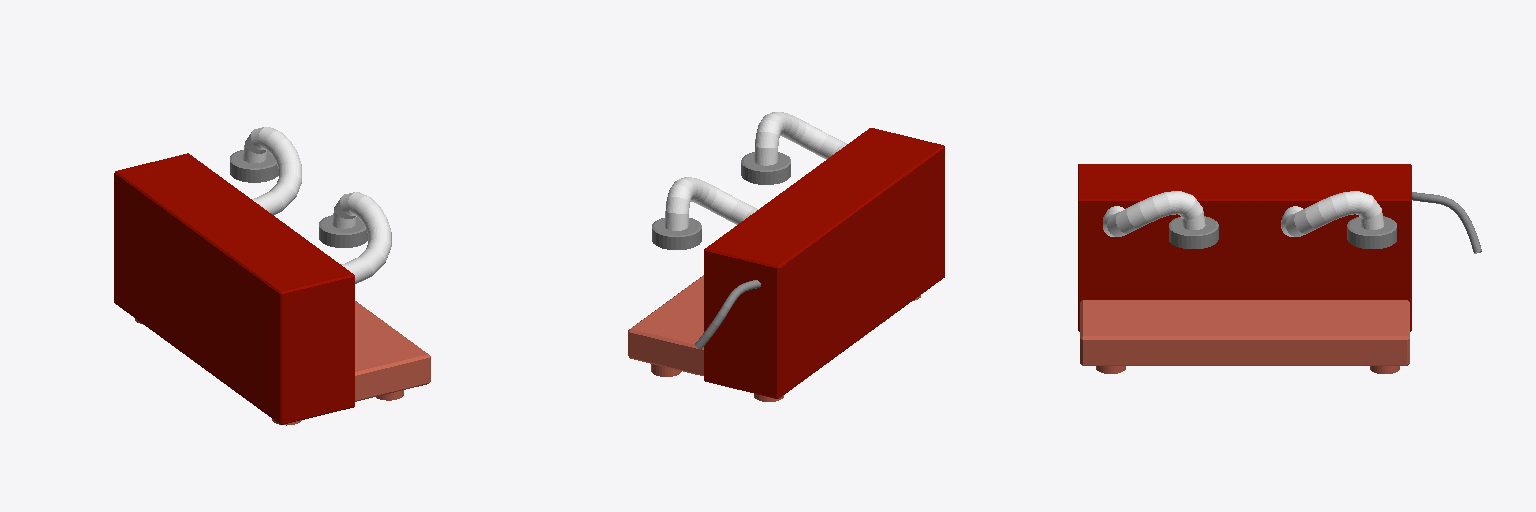
The model's file is aliencoffeemachine.obj.
3 renders of one model, left to right at view 1: azimuth 30°, elevation 25°; view 2: azimuth 150°, elevation 25°; view 3: azimuth 270°, elevation 25°, orthographic.
Parts seen in each view (by area): view 1: Cube_Cube.001, Cube.001_Cube.002, BezierCurve.001_Mesh, BezierCurve.002_Mesh.001, Cylinder.005, Cylinder.004; view 2: Cube_Cube.001, Cube.001_Cube.002, BezierCurve.002_Mesh.001, BezierCurve.001_Mesh, Cylinder.004, Cylinder.005, BezierCurve_Mesh.002; view 3: Cube_Cube.001, Cube.001_Cube.002, BezierCurve.002_Mesh.001, BezierCurve.001_Mesh, Cylinder.005, Cylinder.004, BezierCurve_Mesh.002.
Part boxes in pixels (left/top/right/bottom): Cube_Cube.001: left=114, top=153, right=354, bottom=424; Cube.001_Cube.002: left=355, top=301, right=430, bottom=401; BezierCurve.001_Mesh: left=332, top=192, right=391, bottom=283; BezierCurve.002_Mesh.001: left=243, top=127, right=301, bottom=214; Cylinder.005: left=230, top=150, right=278, bottom=182; Cylinder.004: left=319, top=215, right=367, bottom=247; Cube_Cube.001: left=704, top=128, right=944, bottom=398; Cube.001_Cube.002: left=628, top=275, right=703, bottom=375; BezierCurve.002_Mesh.001: left=665, top=177, right=758, bottom=230; BezierCurve.001_Mesh: left=754, top=112, right=846, bottom=165; Cylinder.004: left=741, top=152, right=790, bottom=184; Cylinder.005: left=652, top=218, right=701, bottom=249; BezierCurve_Mesh.002: left=695, top=280, right=760, bottom=349; Cube_Cube.001: left=1078, top=164, right=1411, bottom=331; Cube.001_Cube.002: left=1080, top=300, right=1409, bottom=365; BezierCurve.002_Mesh.001: left=1281, top=191, right=1383, bottom=236; BezierCurve.001_Mesh: left=1103, top=191, right=1205, bottom=236; Cylinder.005: left=1347, top=216, right=1396, bottom=248; Cylinder.004: left=1169, top=216, right=1218, bottom=248; BezierCurve_Mesh.002: left=1412, top=192, right=1481, bottom=253.
Bounding box in the file's own units: 2.41 × 2.65 × 5.51.